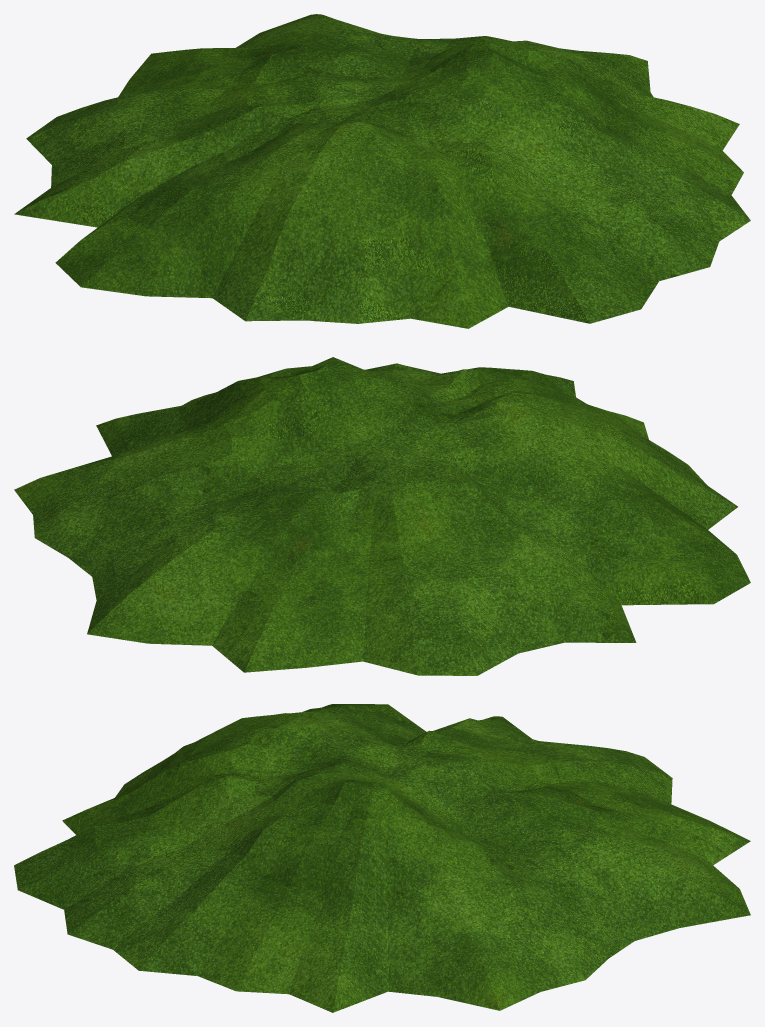
The model's file is rock_moss_patch_v01.glb.
3 renders of one model, top to bottom at view 1: azimuth 30°, elevation 25°; view 2: azimuth 150°, elevation 25°; view 3: azimuth 270°, elevation 25°, orthographic. The views are drawn at different scales.
Parts seen in each view (by area): view 1: rock_moss_patch_v01; view 2: rock_moss_patch_v01; view 3: rock_moss_patch_v01.
Boxes of the visible parts, x1=… form: rock_moss_patch_v01: x1=14, y1=14, x2=750, y2=328; rock_moss_patch_v01: x1=14, y1=357, x2=750, y2=675; rock_moss_patch_v01: x1=14, y1=704, x2=750, y2=1012.
Bounding box in the file's own units: 0.6535 × 0.118 × 0.6613.
1 material, 1 textured.
